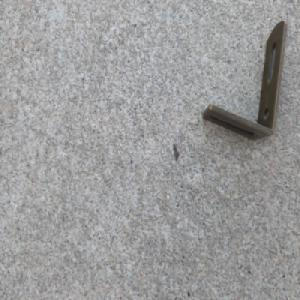MetalPart: (201, 19, 287, 142)
